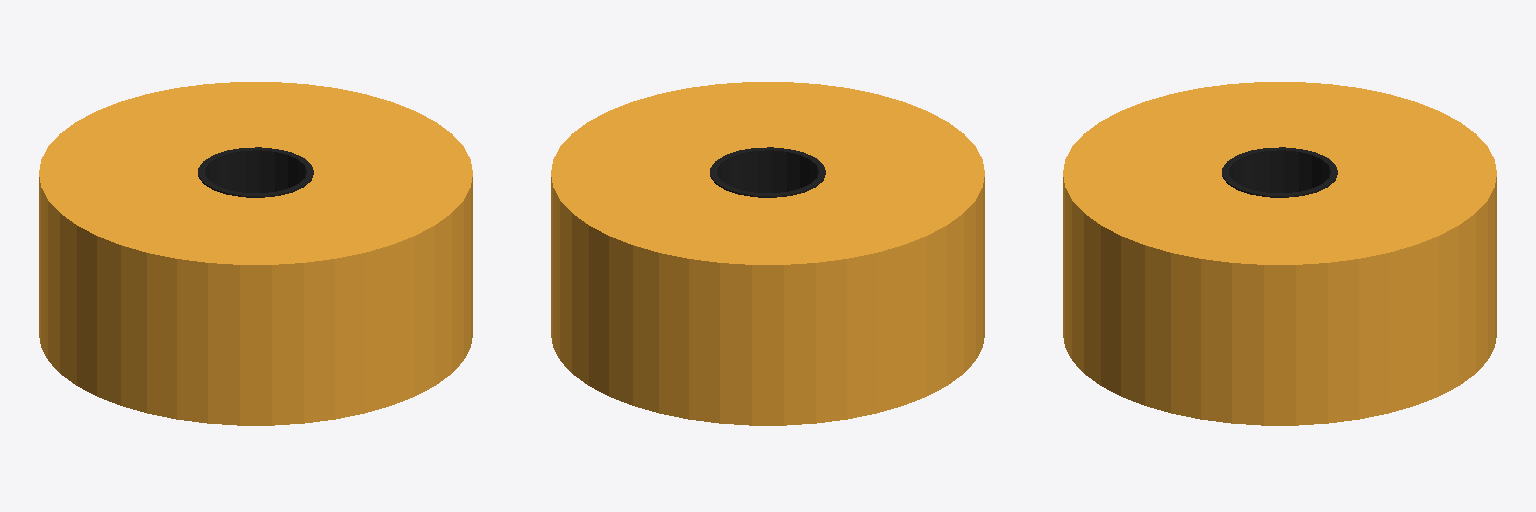
The model's file is deathPitPlatform.obj.
3 views of the same model, side by side, from view 1: azimuth 30°, elevation 25°; view 2: azimuth 150°, elevation 25°; view 3: azimuth 270°, elevation 25° (orthographic).
Visible parts, largest first — view 1: Cylinder, Cylinder.001; view 2: Cylinder, Cylinder.001; view 3: Cylinder, Cylinder.001.
Boxes of the visible parts, x1=… form: Cylinder: x1=39, y1=82, x2=472, y2=425; Cylinder.001: x1=198, y1=147, x2=313, y2=197; Cylinder: x1=551, y1=82, x2=984, y2=425; Cylinder.001: x1=710, y1=147, x2=825, y2=197; Cylinder: x1=1063, y1=82, x2=1496, y2=425; Cylinder.001: x1=1222, y1=147, x2=1337, y2=197.
Size of the model in its own units: 42.72 by 18.31 by 42.84.